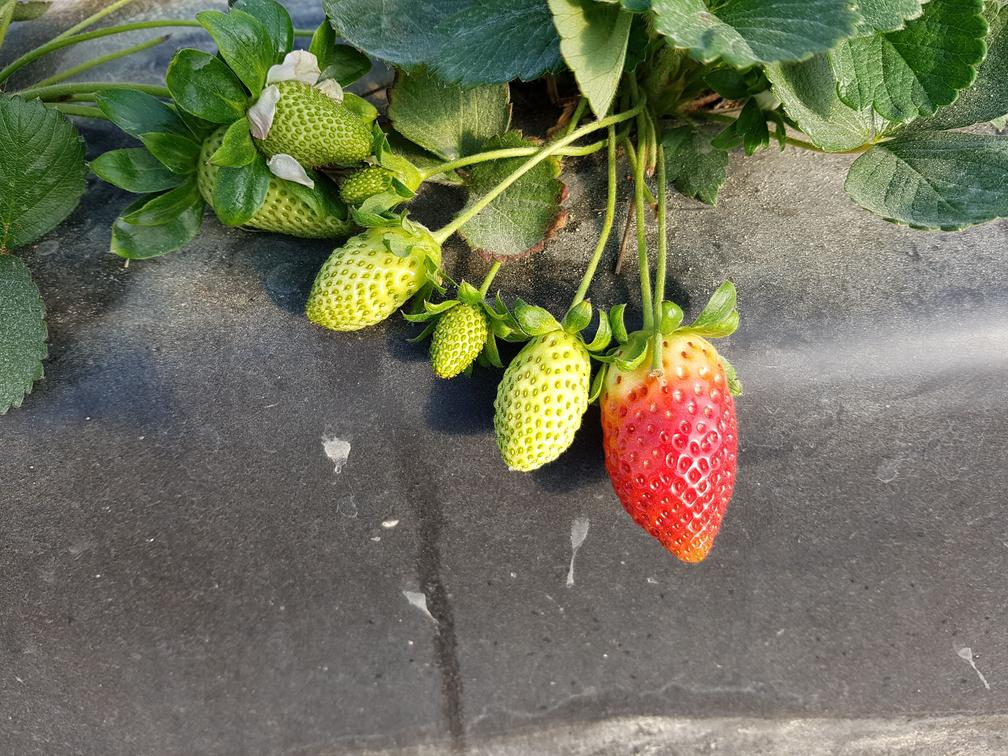Ripe: (595, 327, 750, 577)
Unripe: (305, 219, 448, 337), (496, 322, 596, 487), (256, 71, 379, 170), (257, 174, 351, 242), (427, 302, 493, 385)
